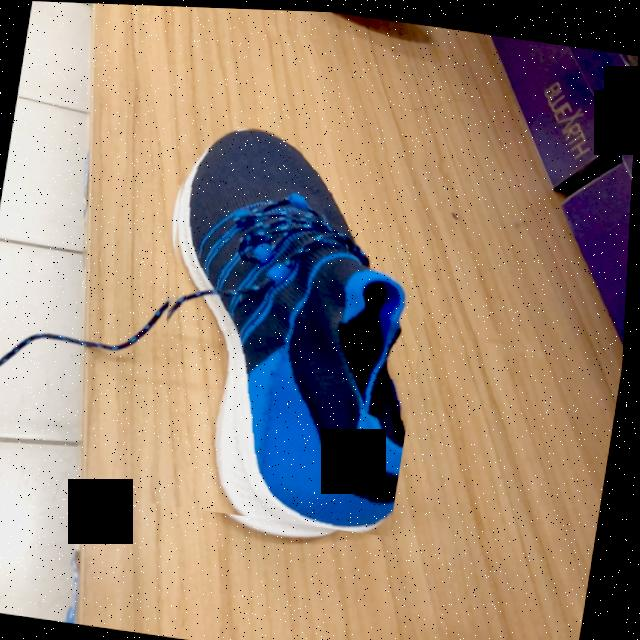shoe: (178, 127, 409, 528)
